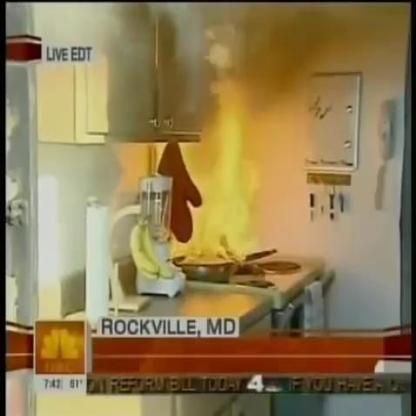fire: (142, 72, 264, 266)
